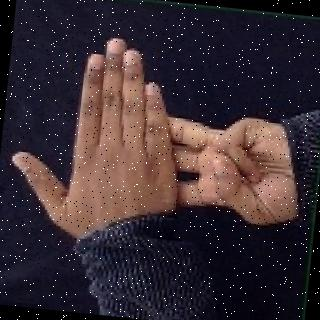M: (2, 31, 301, 259)
